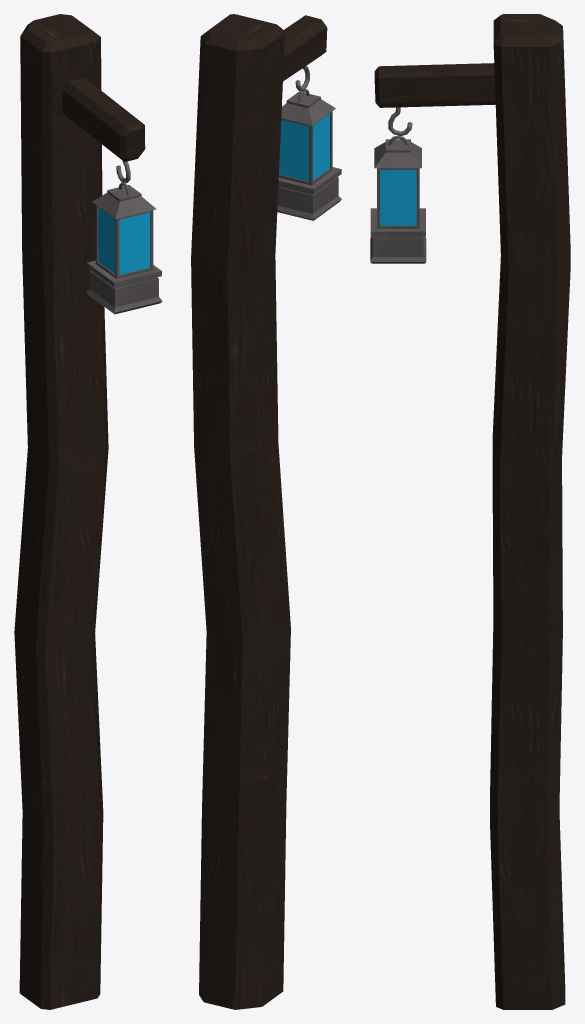
File: Lantern_01.fbx
3 renders of one model, left to right at view 1: azimuth 30°, elevation 25°; view 2: azimuth 150°, elevation 25°; view 3: azimuth 270°, elevation 25°, orthographic.
Visible parts, largest first — view 1: Plane.117, Plane.119; view 2: Plane.117, Plane.119; view 3: Plane.117, Plane.119.
Boxes of the visible parts, x1,y1,x2,y2 form: Plane.117: [14, 14, 145, 1009]; Plane.119: [86, 185, 162, 314]; Plane.117: [191, 14, 327, 1009]; Plane.119: [277, 91, 341, 220]; Plane.117: [374, 14, 570, 1009]; Plane.119: [370, 139, 426, 263].
Bounding box in the file's own units: 34.32 × 434 × 81.43.
